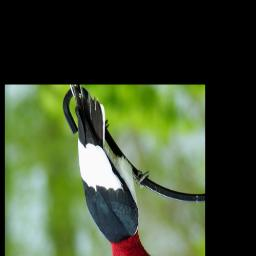Woodpecker: (67, 85, 171, 256)
